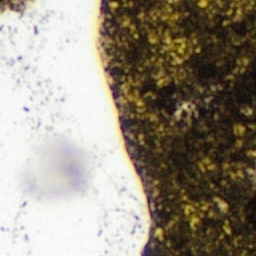cement_matrix: (102, 0, 255, 255), (0, 0, 21, 7)
gravel_crushed_stones: (0, 0, 153, 255)
